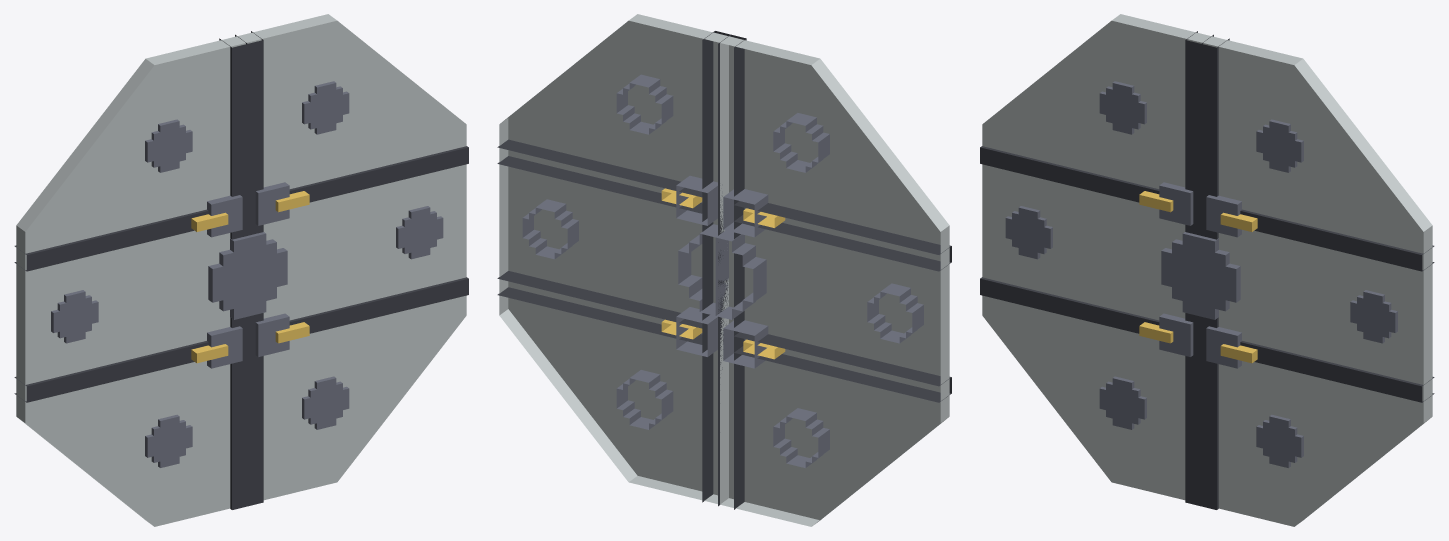
Rendered from Door.fbx.
3 renders of one model, left to right at view 1: azimuth 30°, elevation 25°; view 2: azimuth 150°, elevation 25°; view 3: azimuth 330°, elevation 25°, orthographic.
Visible parts, largest first — view 1: Door_L, Door_R; view 2: Door_L, Door_R; view 3: Door_R, Door_L.
Boxes of the visible parts, x1,y1,x2,y2 form: Door_L: (14, 36, 250, 526); Door_R: (235, 14, 468, 506); Door_L: (715, 34, 951, 526); Door_R: (497, 14, 730, 506); Door_R: (1198, 35, 1434, 526); Door_L: (980, 14, 1211, 506).
Bounding box in the file's own units: 2820 × 2820 × 230.
